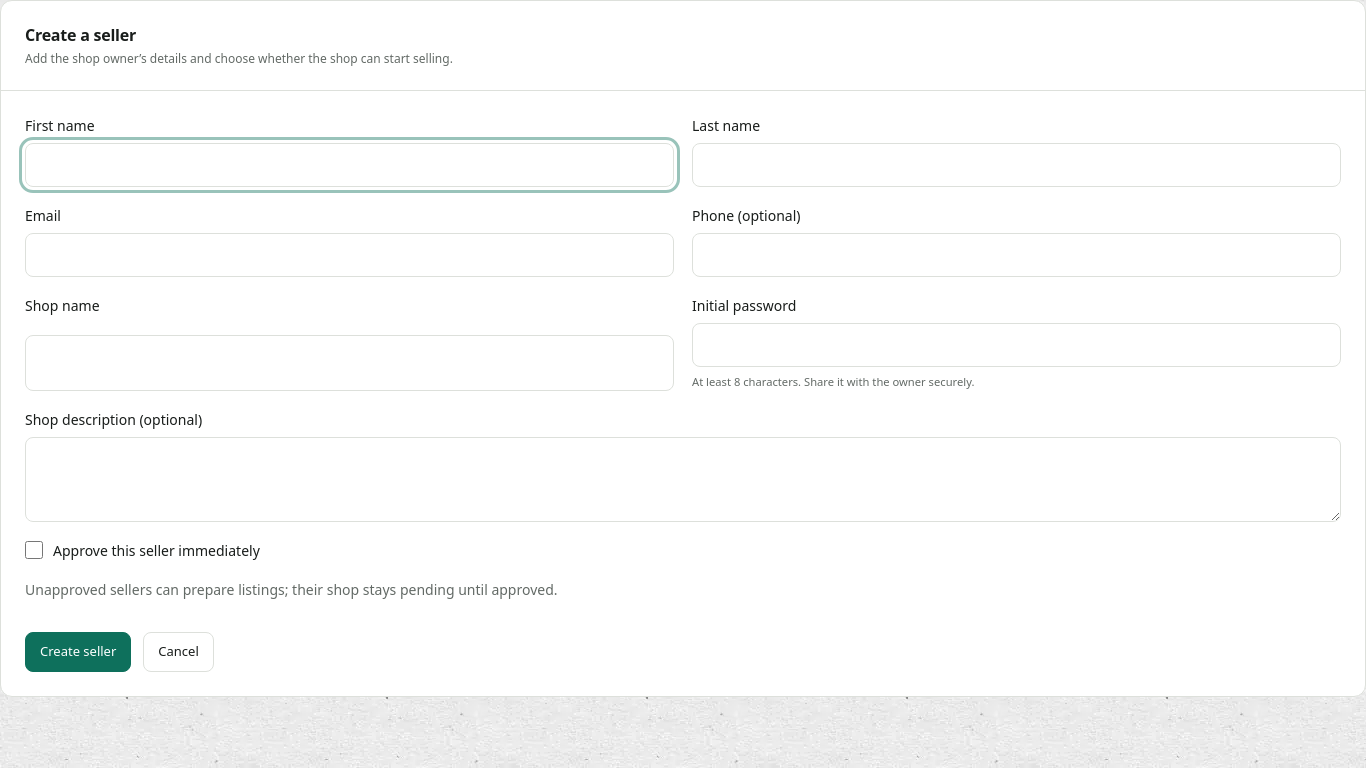
Test: seller creation preserves entered details when the email is already taken
Type "Asha" into the field labelled "First name". click: [350, 165]
box: top-left (25, 143), bottom-right (674, 187)
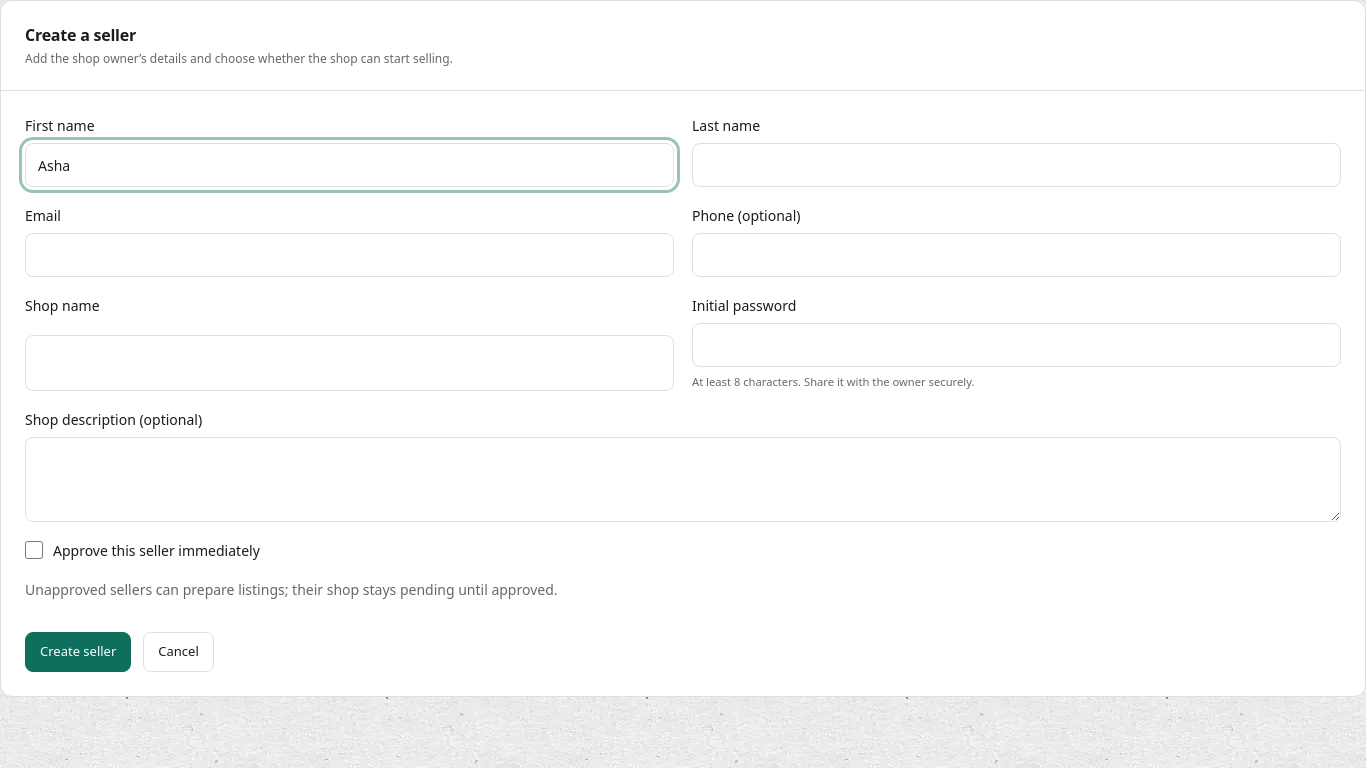
Type "Rai" into the field labelled "Last name". click: [1016, 165]
box: top-left (692, 143), bottom-right (1341, 187)
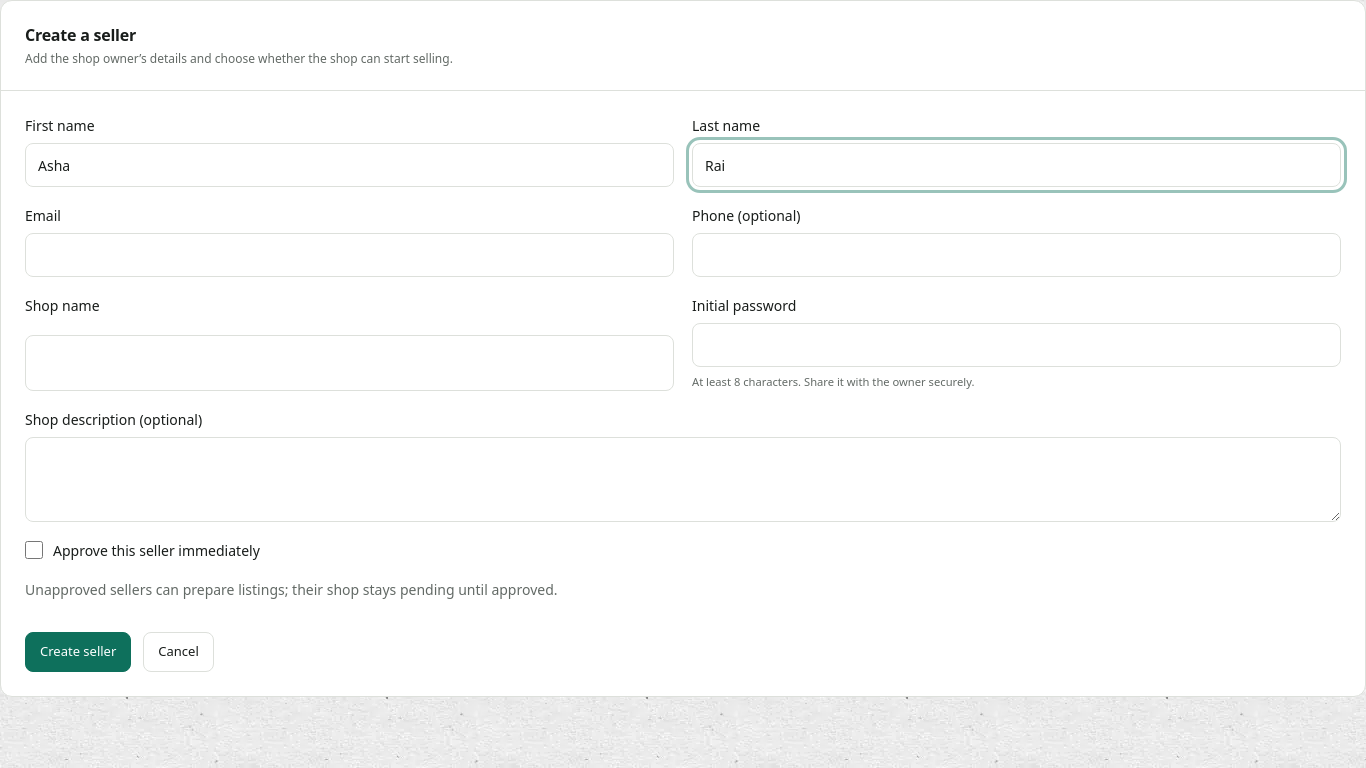
Type "asha@example.test" into the field labelled "Email". click: [350, 255]
box: top-left (25, 233), bottom-right (674, 277)
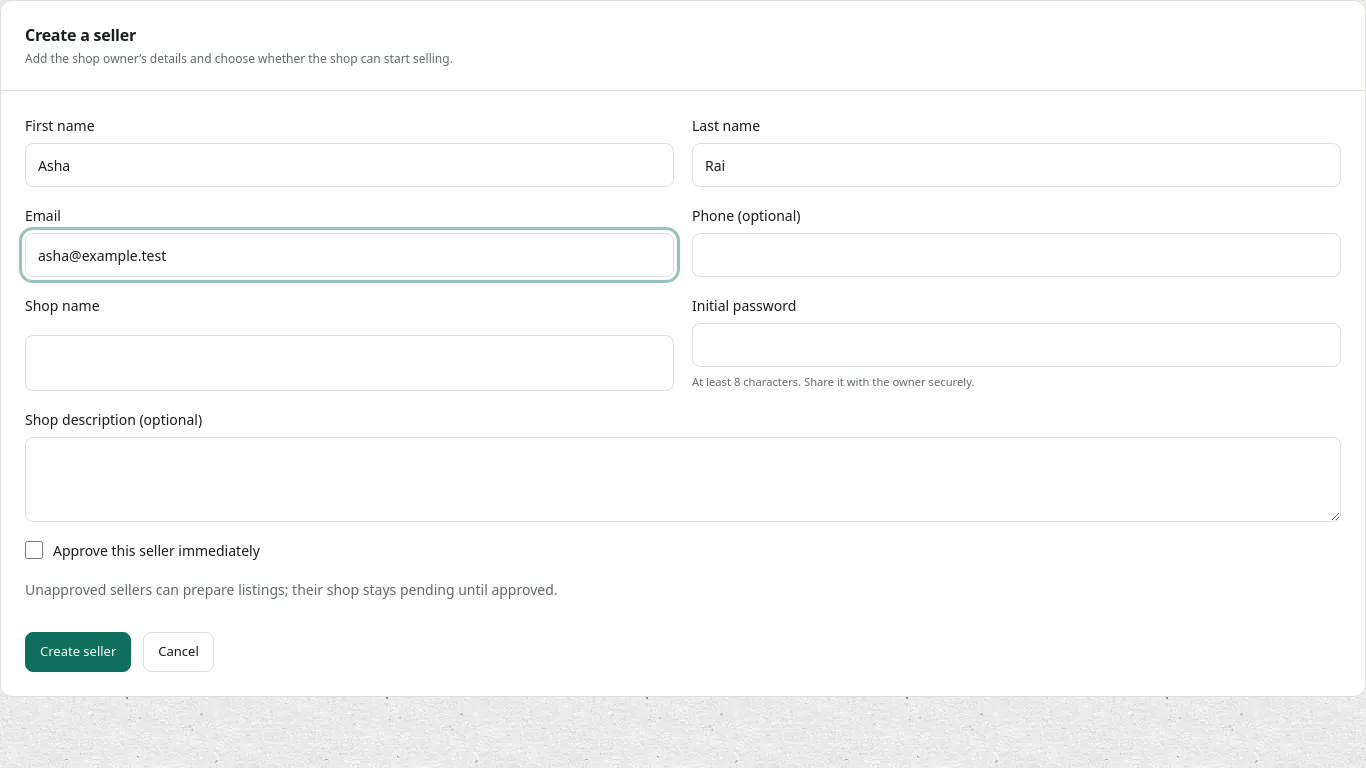
Type "Asha Shop" into the field labelled "Shop name". click: [350, 363]
box: top-left (25, 335), bottom-right (674, 391)
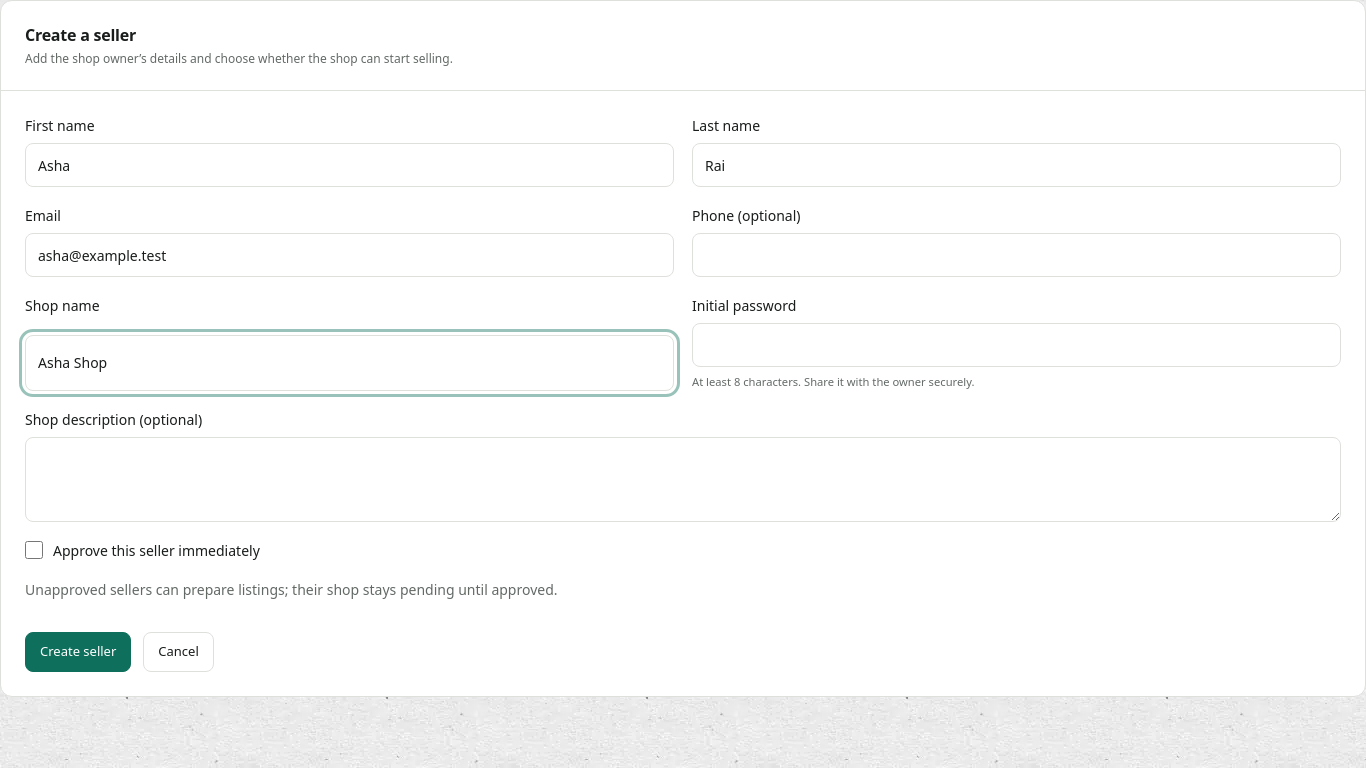
Type "Password!2026" into the password field labelled "Initial password". click: [1016, 345]
box: top-left (692, 323), bottom-right (1341, 367)
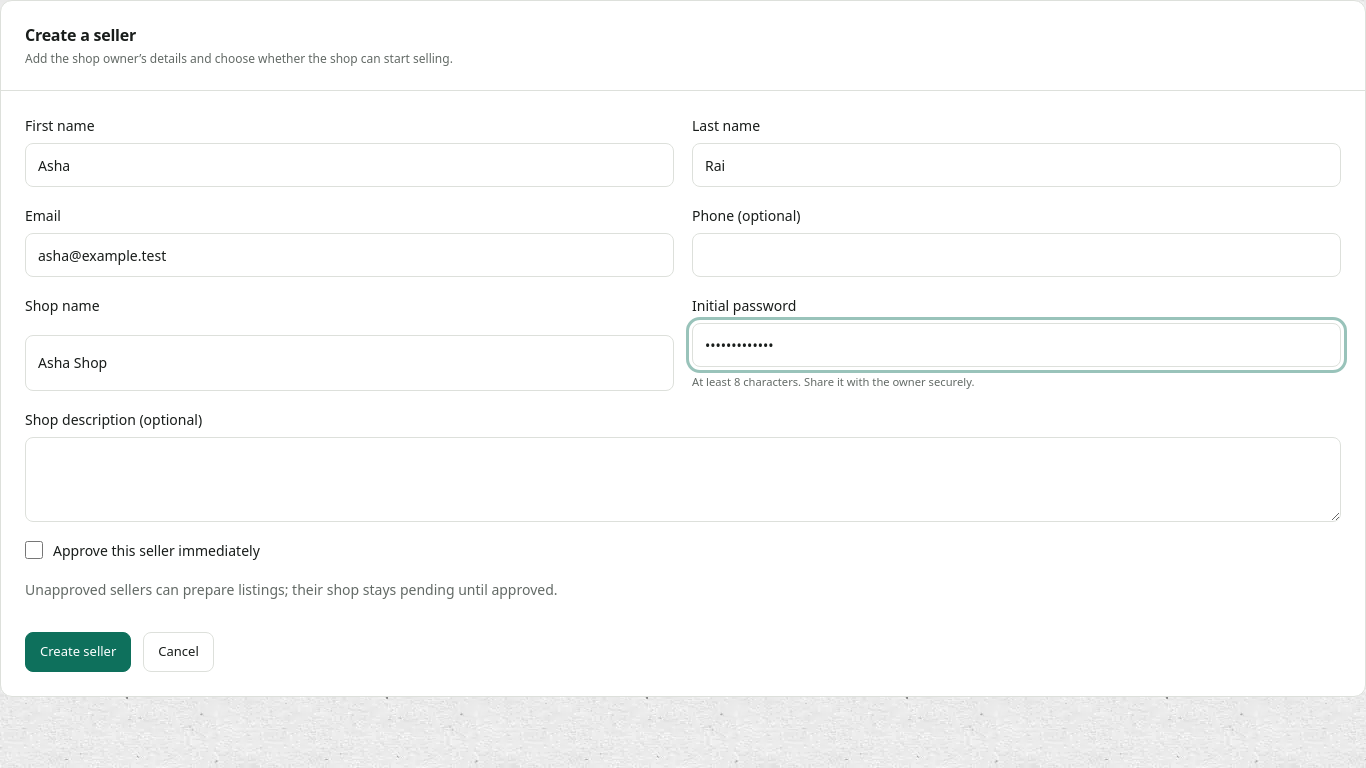
Click the button "Create seller". click: [78, 652]
box: top-left (25, 632), bottom-right (131, 672)
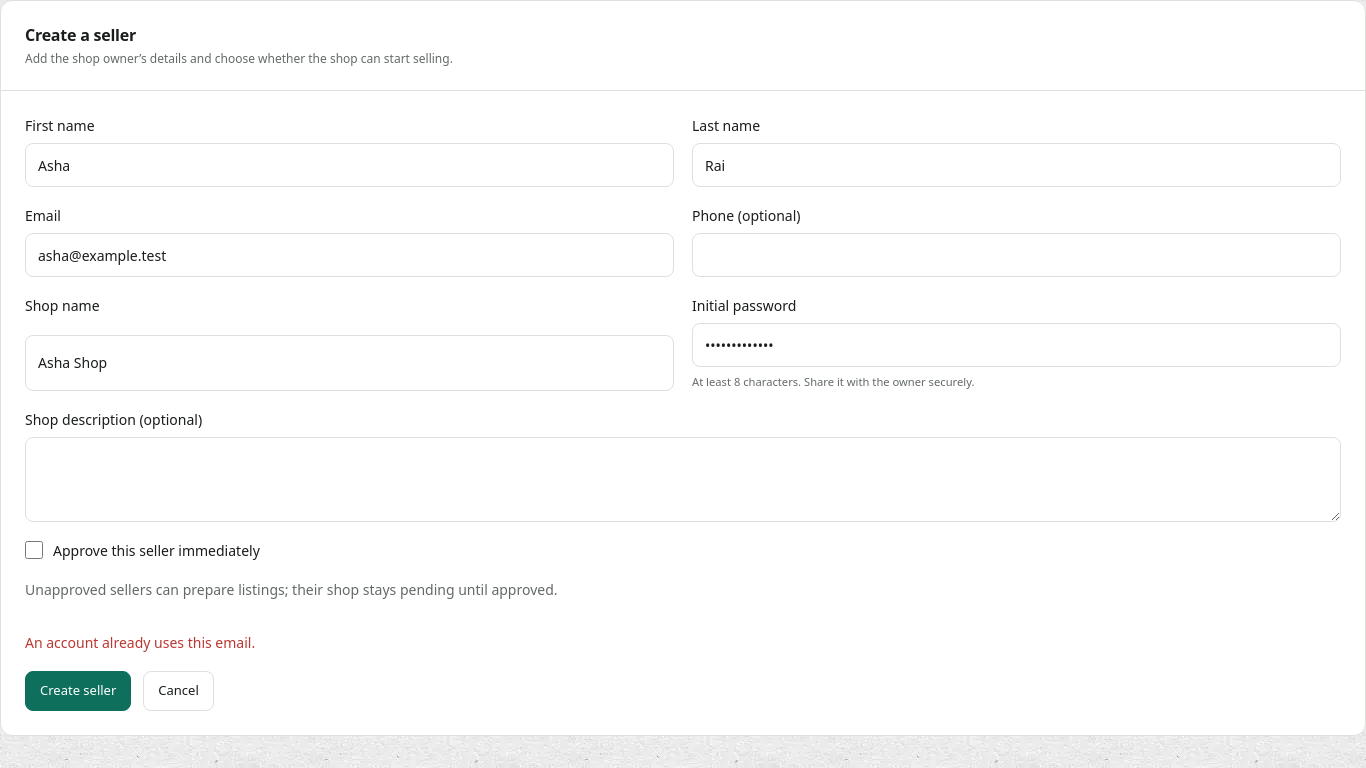
Result: the message shows "already uses this email" at top-left (25, 633), bottom-right (255, 652)
